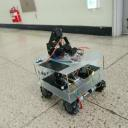cart: (33, 49, 107, 116)
